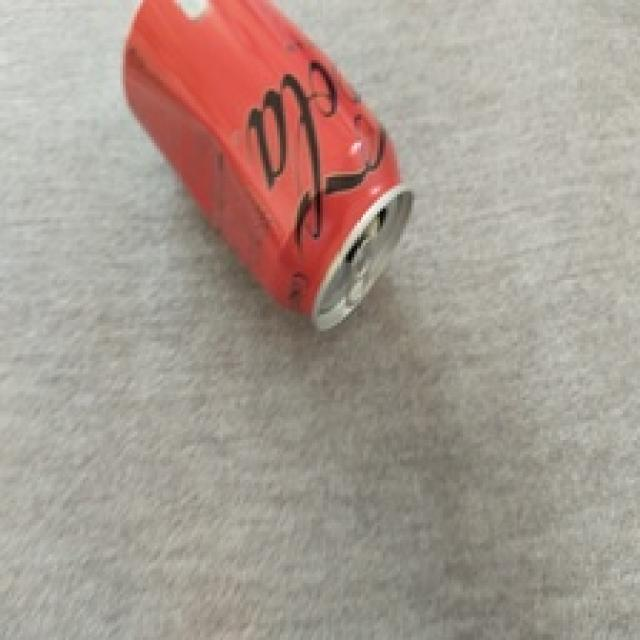recyclable: (122, 0, 414, 333)
